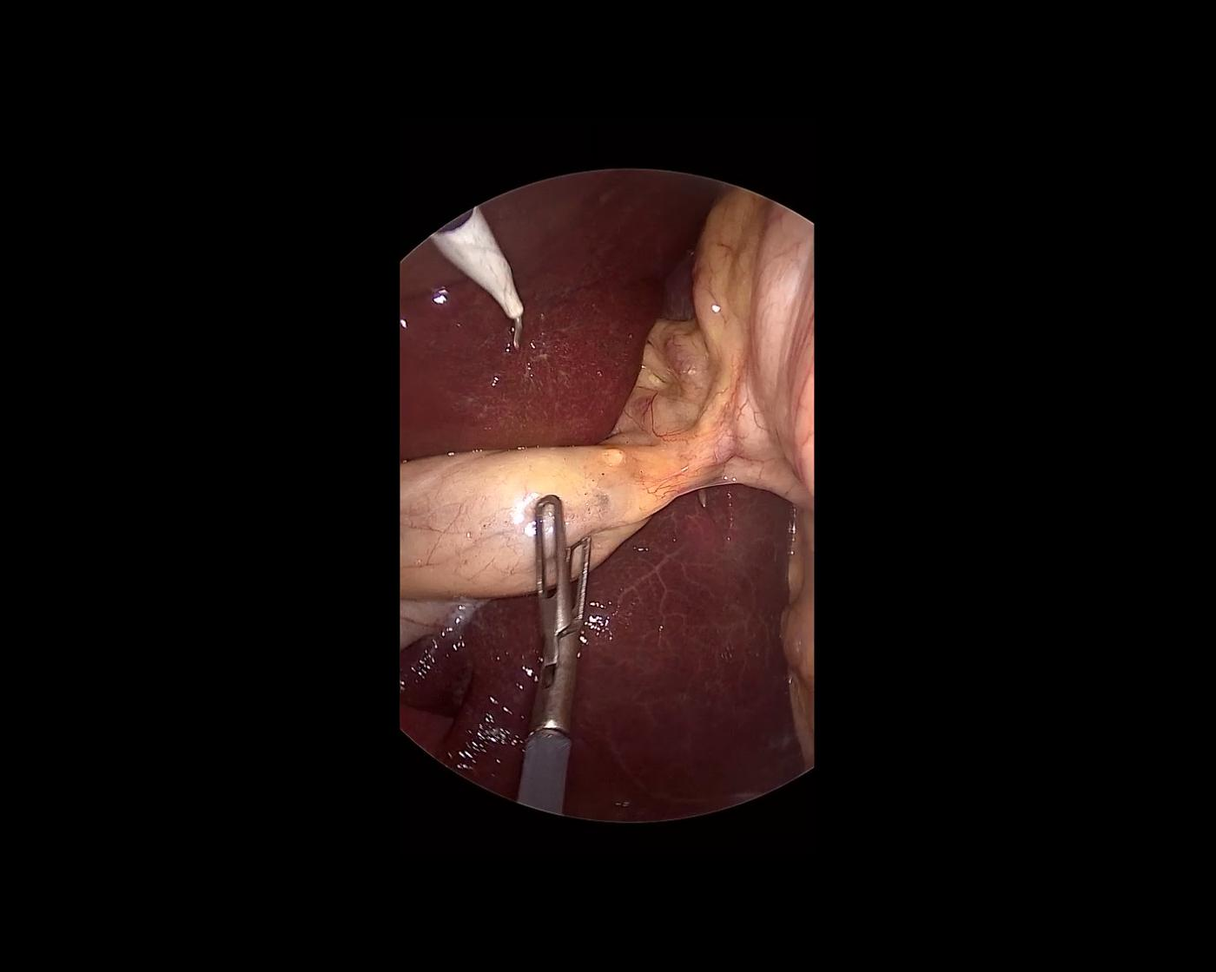Cautery: (428, 203, 546, 360)
Forceps: (506, 492, 597, 812)
Gallbladder: (340, 383, 662, 645)
Liver: (400, 168, 728, 462), (547, 480, 809, 824), (400, 589, 540, 800)
